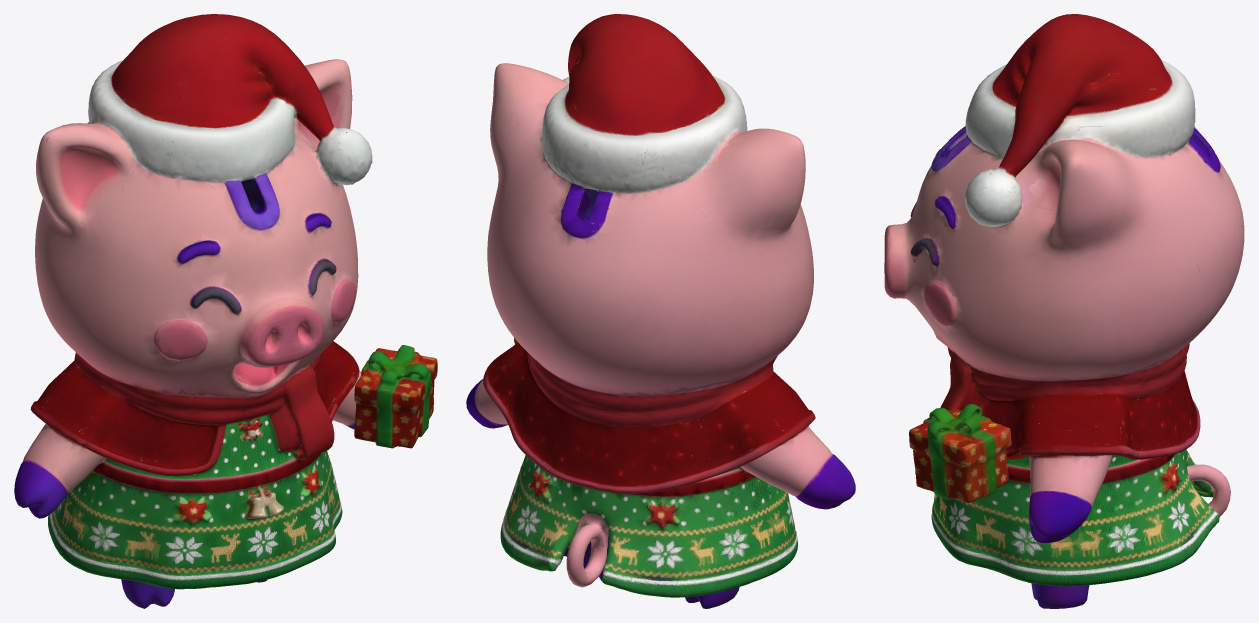
The model's file is quita-natal-f.glb.
The picture shows the model from 3 angles, left to right: view 1: azimuth 30°, elevation 25°; view 2: azimuth 150°, elevation 25°; view 3: azimuth 270°, elevation 25°; orthographic projection.
Parts seen in each view (by area): view 1: Mesh_0; view 2: Mesh_0; view 3: Mesh_0.
Boxes of the visible parts, <box> form: Mesh_0: <box>14,14,437,608</box>; Mesh_0: <box>466,14,855,608</box>; Mesh_0: <box>884,14,1244,608</box>.
Bounding box in the file's own units: 1.36 × 1.91 × 1.11.
Materials: 1 (1 with a texture image).
